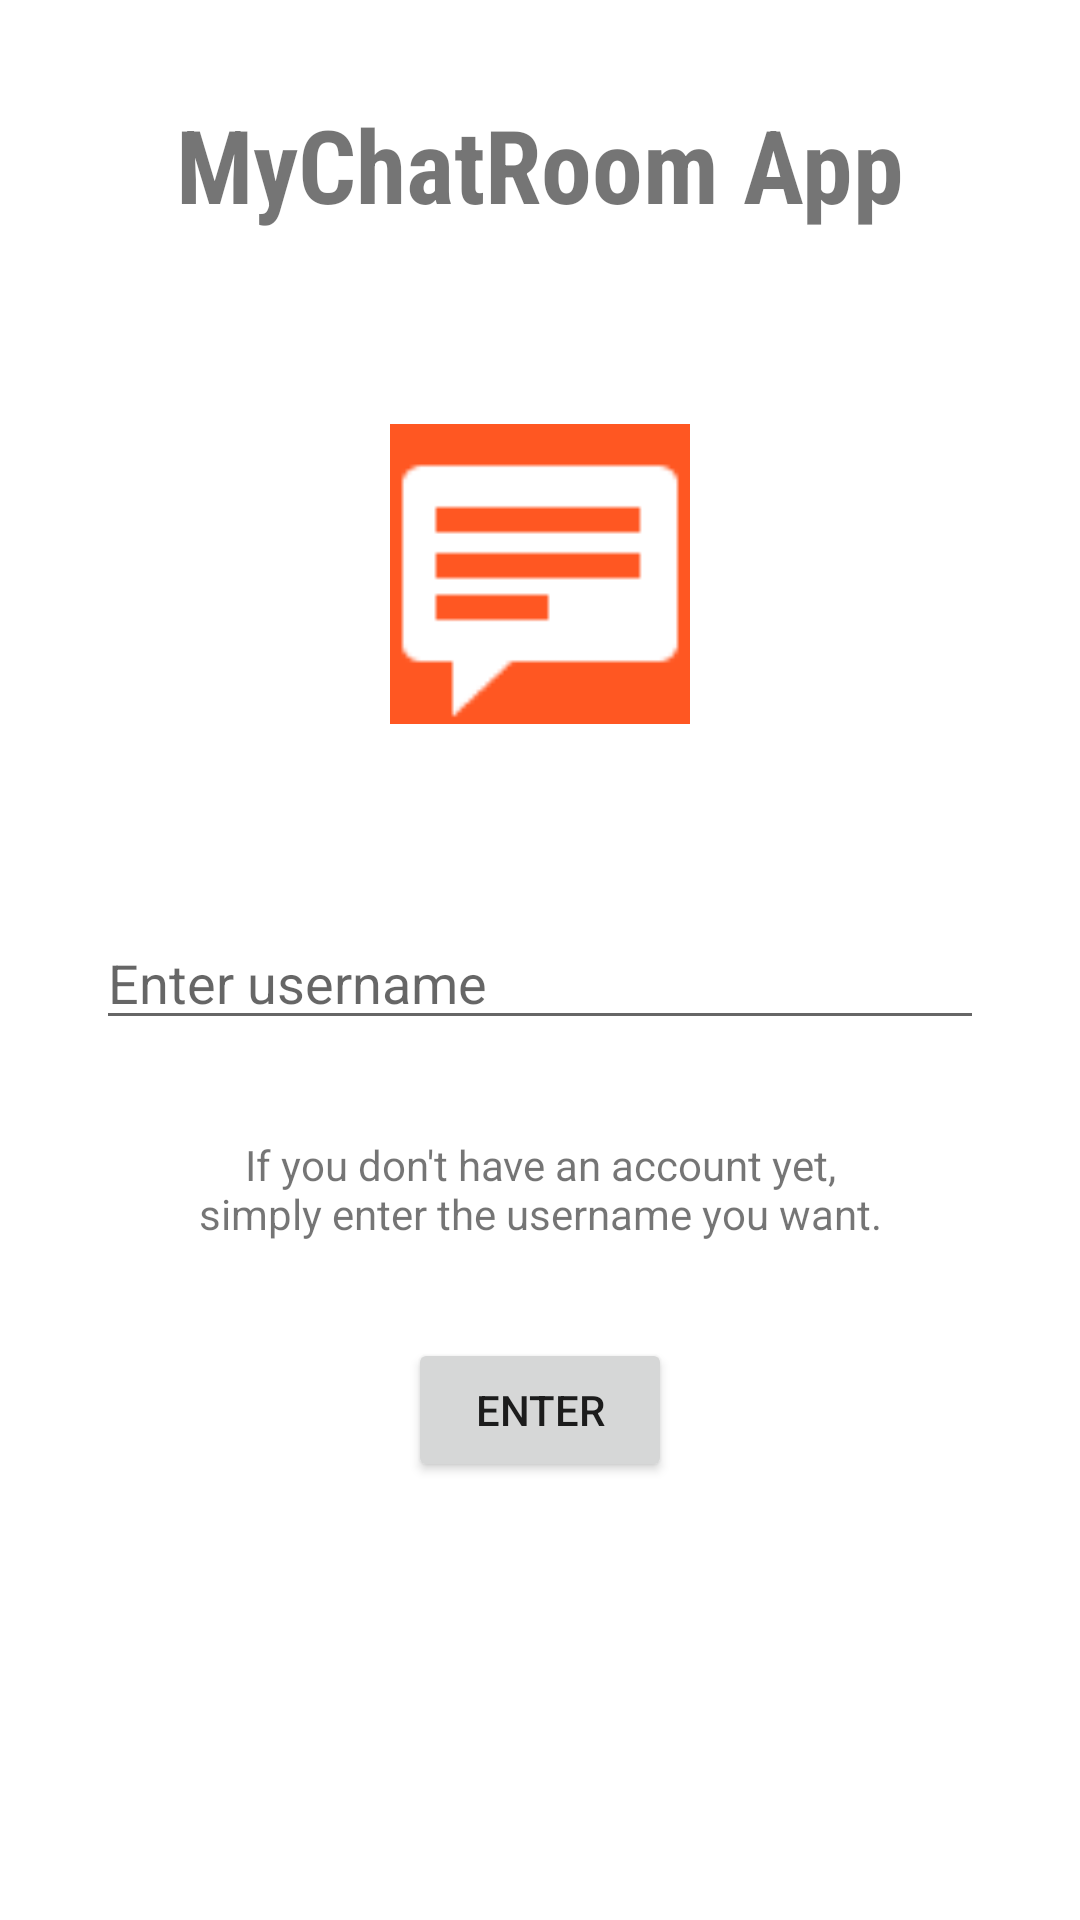

Point at icon controls on the screen. Image size 1080*1920, points as point (x, y).
chat: point (540, 574)
